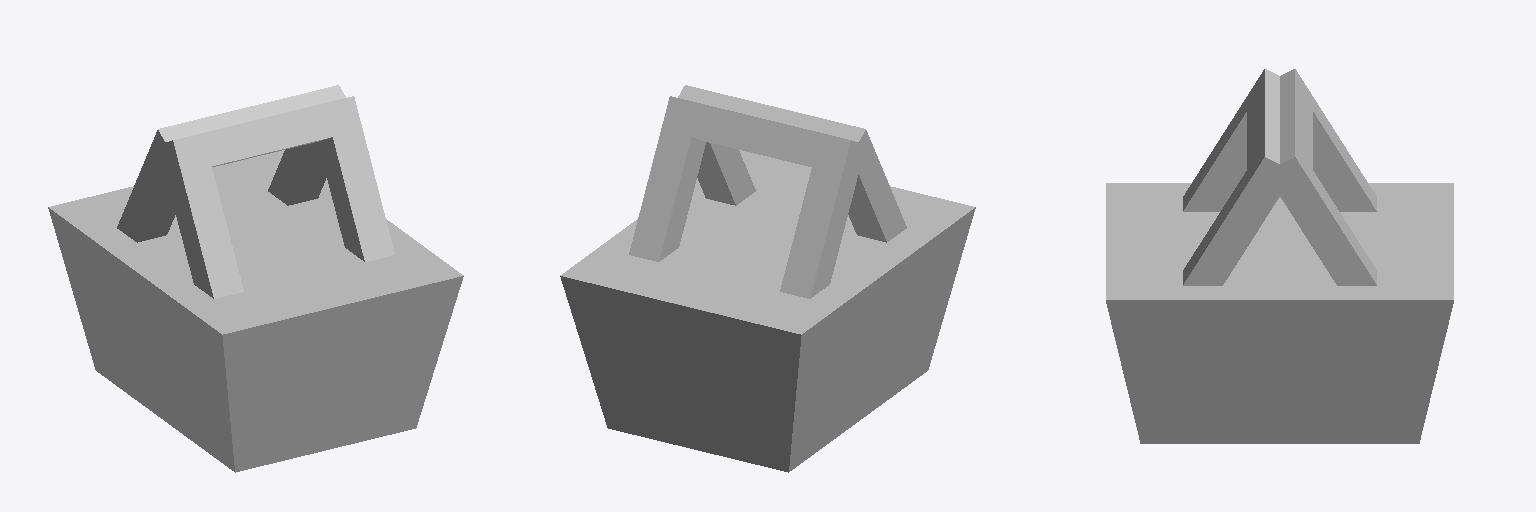
The model's file is basket.obj.
3 renders of one model, left to right at view 1: azimuth 30°, elevation 25°; view 2: azimuth 150°, elevation 25°; view 3: azimuth 270°, elevation 25°, orthographic.
Parts seen in each view (by area): view 1: Cube, Cube.001, Cube.002; view 2: Cube, Cube.002, Cube.001; view 3: Cube, Cube.001, Cube.002.
Part boxes in pixels (x1,y1,x2,y2): Cube: (48,150,463,472); Cube.001: (158,96,394,298); Cube.002: (117,85,345,242); Cube: (560,150,975,472); Cube.002: (629,96,865,298); Cube.001: (678,85,906,242); Cube: (1106,183,1453,443); Cube.001: (1183,69,1293,285); Cube.002: (1266,69,1376,285).
Bounding box in the file's own units: 0.8 × 0.908 × 1.